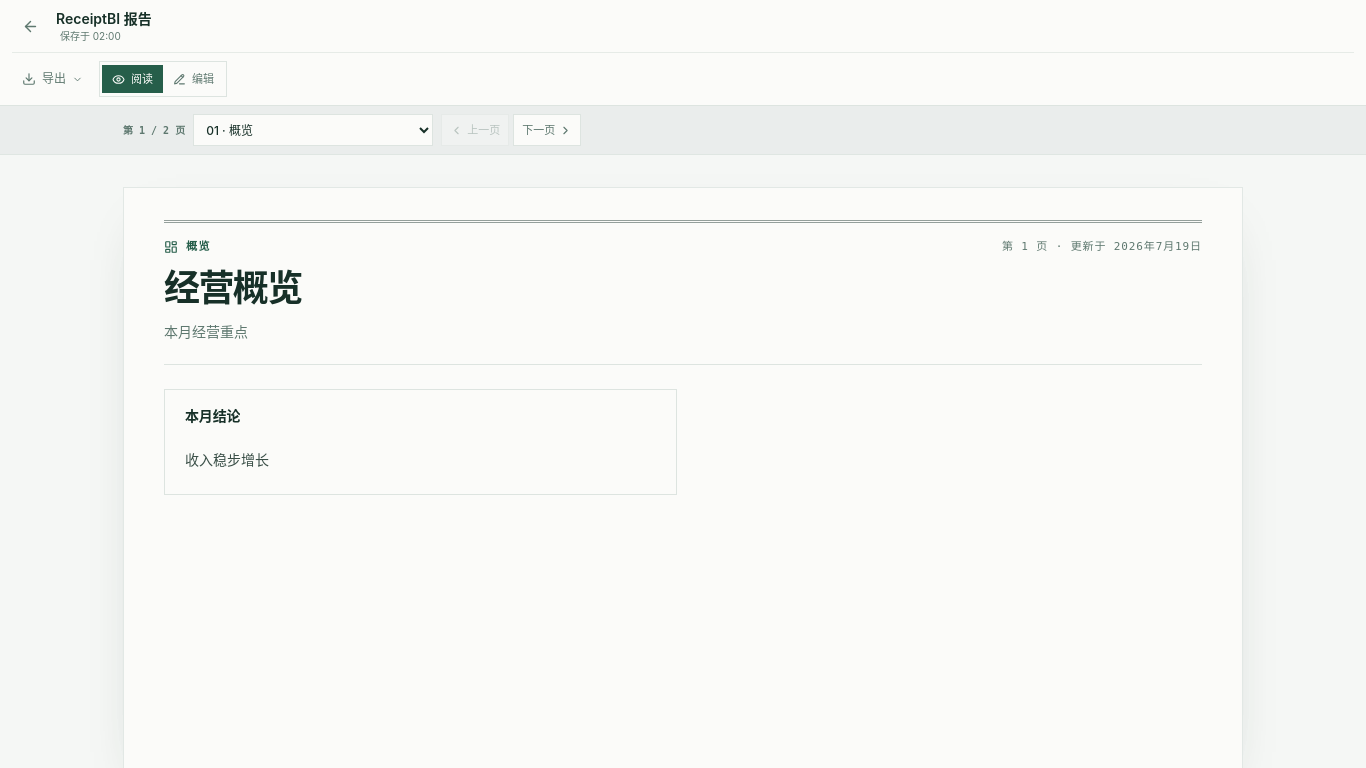
Test: ReportWorkspace › keeps report page navigation visible and usable in reading mode
Check: the text "收入稳步增长" is shown, box [185,450,269,468]
Check: the navigation bar named "报告分页" is shown, box [123,114,581,146]
Click the button with aria-label "下一页：经营明细". click: (547, 130)
box: [513,114,581,146]
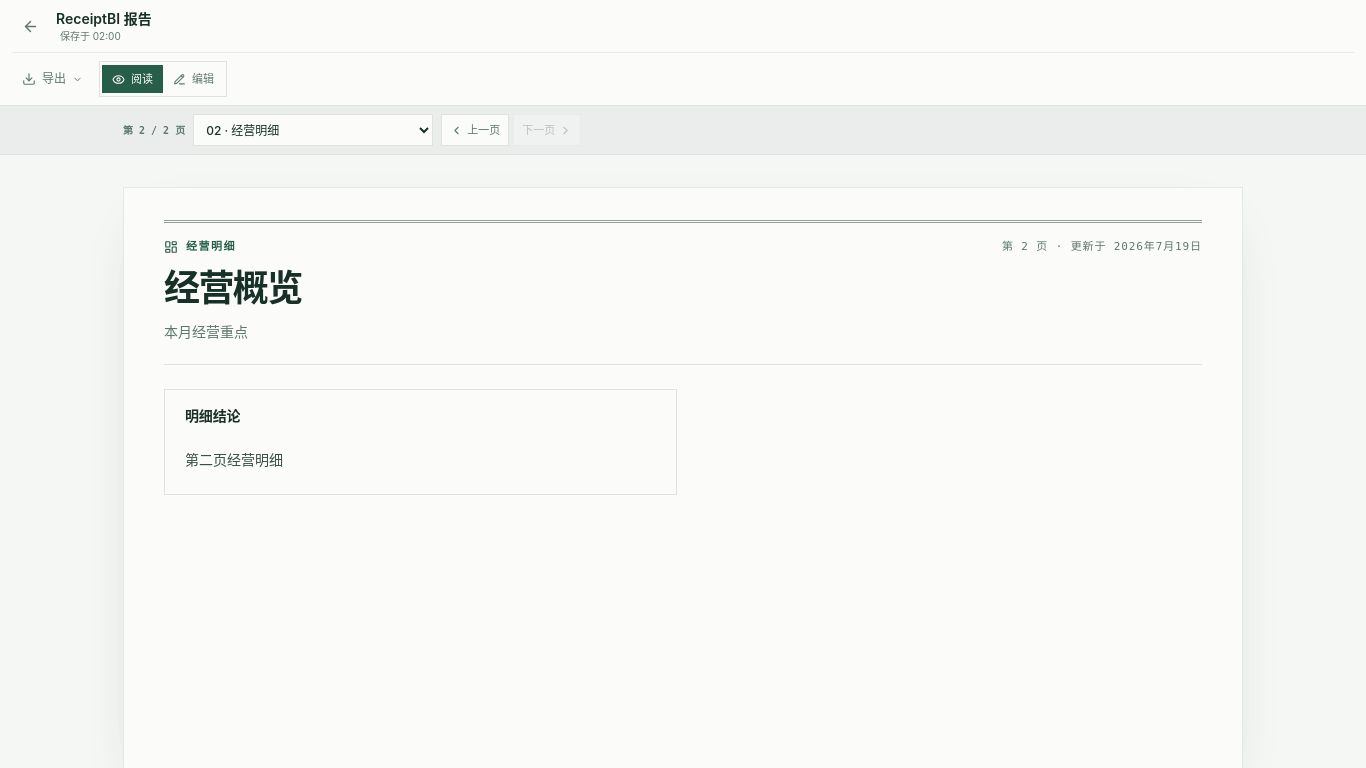
Check: the text "第二页经营明细" is shown, box [185,450,283,468]
Check: the text "第 2 / 2 页" is shown, box [123,122,185,138]
Check: the text "第 2 页 · 更新于 2026年7月19日" is shown, box [1002,239,1202,256]
